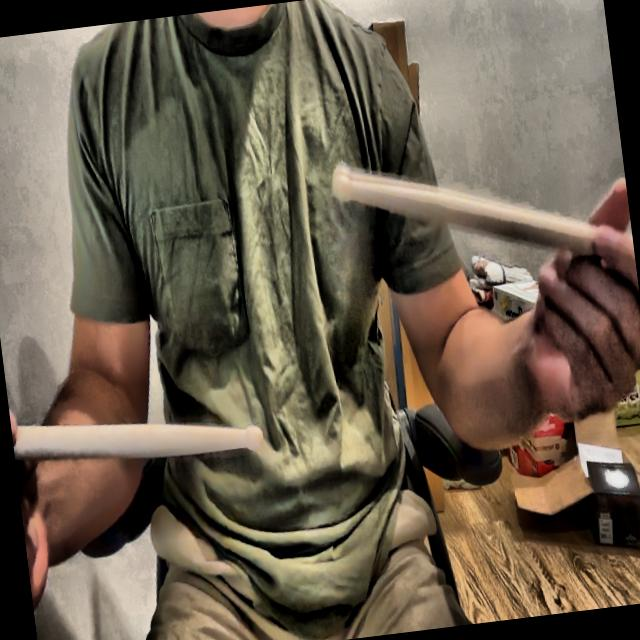Drumstick-Heads: (327, 157, 357, 204), (240, 419, 269, 458)
